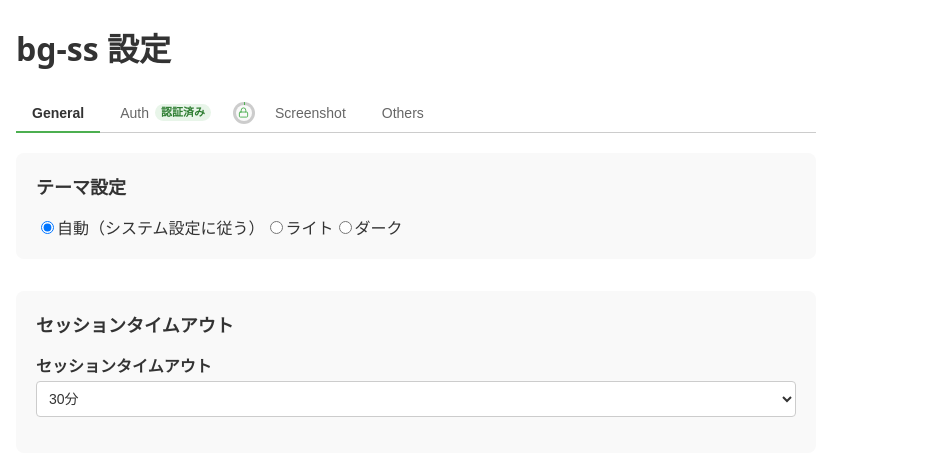
it: Options App › 保存ハイライト › 設定保存成功: 設定セクションがハイライトされインライン通知表示、successトーストなし
// セッションタイムアウト select を変更（@change で即時保存 + ハイライト）
Select "60分" in the dropdown with class "select-input" at point(416, 399), box [36, 381, 796, 417]
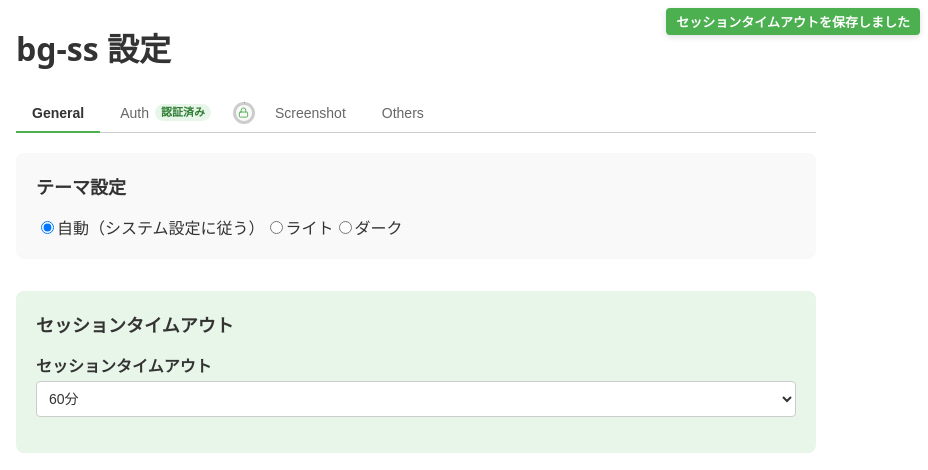
expect the element with class "section--saved" is shown: met, box [16, 291, 816, 453]
expect the text with class "inline-notice" reads "セッションタイムアウトを保存しました": met, box [676, 13, 910, 31]
